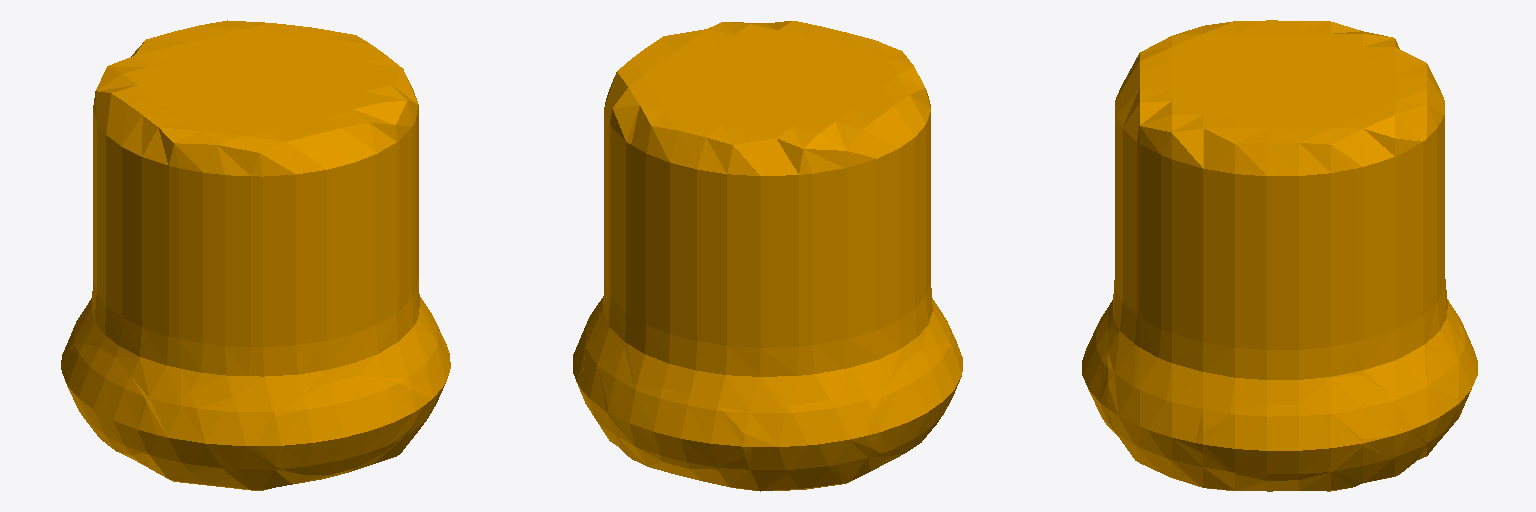
robot.urdf — cylinder_../../meshes/cylinders/cylinder_72.stl:
<?xml version="1.0" encoding="utf-8"?>  <robot name="cylinder_../../meshes/cylinders/cylinder_72.stl">   <link name="cylinder_../../meshes/cylinders/cylinder_72.stl">     <visual>       <geometry>         <mesh filename="../meshes/cylinders/cylinder_72.stl" scale="1 1 1"/>       </geometry>     </visual>     <collision>       <geometry>         <mesh filename="../meshes/cylinders/cylinder_72.stl" scale="1 1 1"/>       </geometry>     </collision>     <inertial>        <origin         xyz="0 0 0"         rpy="0 0 0" />       <mass value="0.13537129832415234"/>       <origin rpy="0 0 0" xyz="0 0 0"/>       <inertia ixx="6.552699640717867e-05" ixy="-3.5736648602379683e-09" ixz="1.3470912744639019e-08" iyy="6.553014001599876e-05" iyz="2.072049921254381e-08" izz="4.9208688747495364e-05"/>     </inertial>   </link>  </robot>

--- Render facts (derived) ---
Views: 3 orthographic renders of the robot side by side, from view 1: azimuth 30°, elevation 25°; view 2: azimuth 150°, elevation 25°; view 3: azimuth 270°, elevation 25°.
Model cylinder_../../meshes/cylinders/cylinder_72.stl with 1 links and 0 joints (none), rooted at cylinder_../../meshes/cylinders/cylinder_72.stl, posed every joint at zero.
Visible links, largest first — view 1: cylinder_../../meshes/cylinders/cylinder_72.stl; view 2: cylinder_../../meshes/cylinders/cylinder_72.stl; view 3: cylinder_../../meshes/cylinders/cylinder_72.stl.
Link boxes in pixels (bbox=[...]): cylinder_../../meshes/cylinders/cylinder_72.stl: bbox=[61, 20, 450, 490]; cylinder_../../meshes/cylinders/cylinder_72.stl: bbox=[573, 21, 962, 491]; cylinder_../../meshes/cylinders/cylinder_72.stl: bbox=[1082, 20, 1477, 491].
Size in the robot's own frame: 0.062 by 0.062 by 0.0604 metres.
Meshes: 1 distinct files referenced, 1 mesh visuals loaded (1 binary STL).